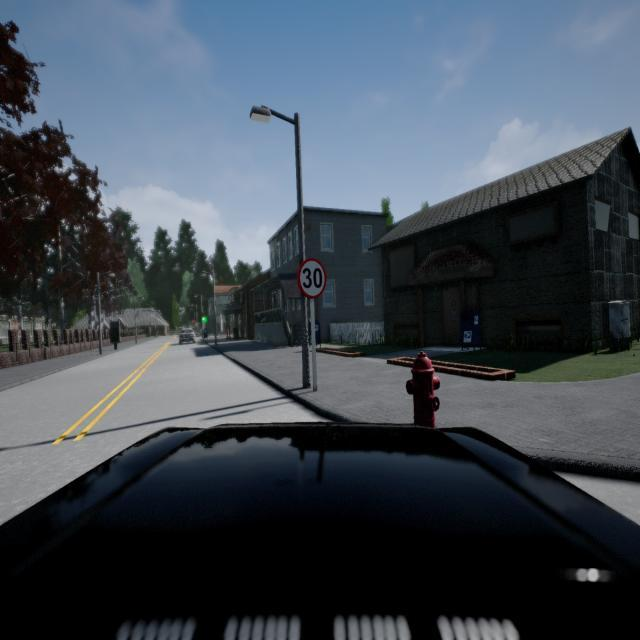Speed Limit -30-: (298, 258, 326, 297)
